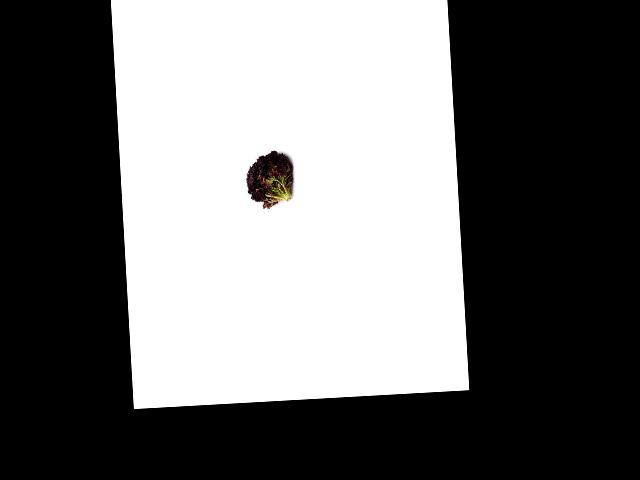lettuce: (243, 147, 297, 206)
